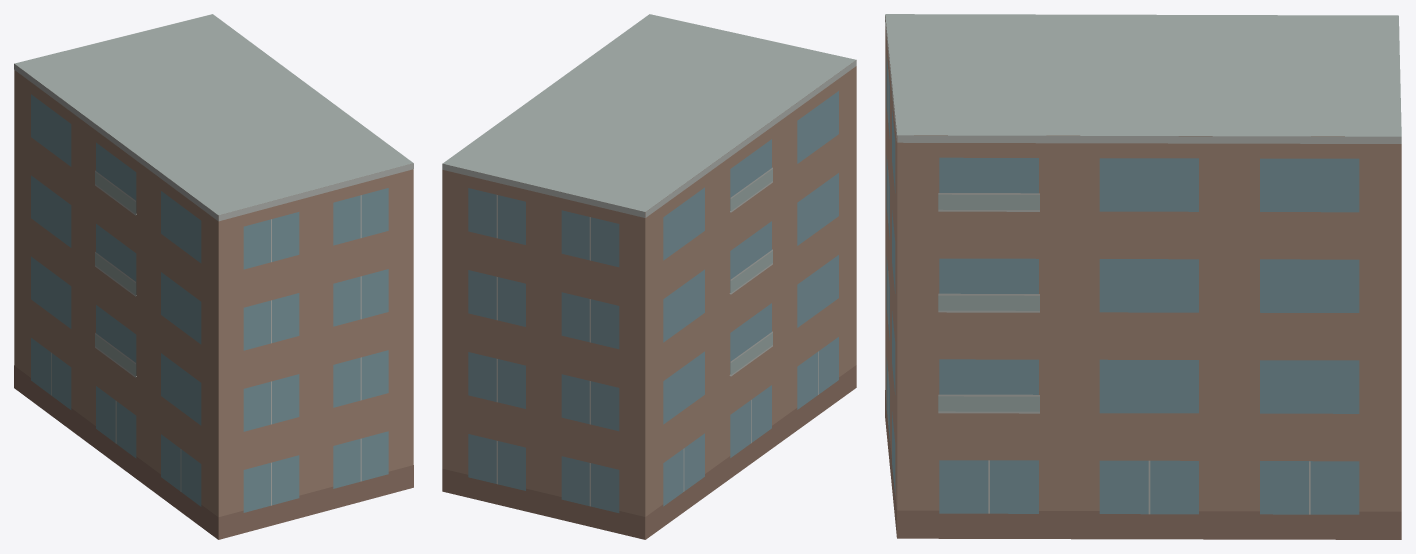
The model's file is survey-upis-33036618.glb.
The picture shows the model from 3 angles, left to right: view 1: azimuth 30°, elevation 25°; view 2: azimuth 150°, elevation 25°; view 3: azimuth 270°, elevation 25°; orthographic projection. The views are drawn at different scales.
Parts seen in each view (by area): view 1: survey-upis-33036618.tmp; view 2: survey-upis-33036618.tmp; view 3: survey-upis-33036618.tmp.
Part boxes in pixels (<box>): survey-upis-33036618.tmp: <box>14,14,413,539</box>; survey-upis-33036618.tmp: <box>442,14,856,539</box>; survey-upis-33036618.tmp: <box>885,14,1401,539</box>.
Size of the model in its own units: 8.58 by 13.15 by 15.27.
